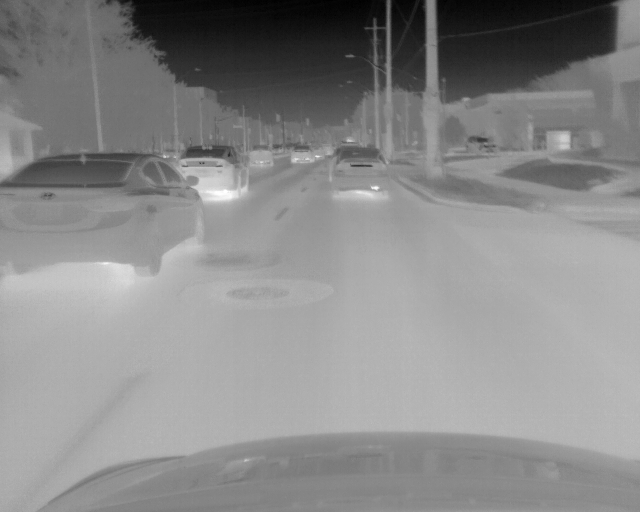car: (1, 152, 208, 281), (176, 144, 251, 200), (327, 147, 388, 200), (465, 135, 501, 156), (249, 144, 275, 168), (290, 144, 314, 164), (313, 144, 325, 161)
